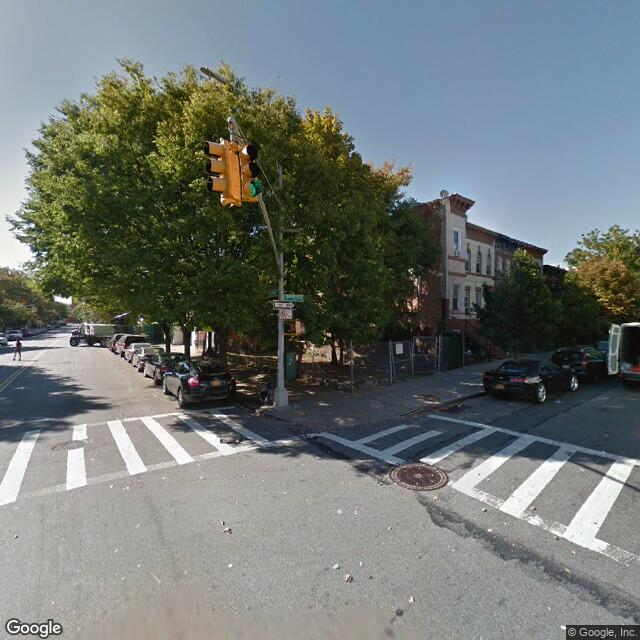litter: (331, 563, 359, 581), (258, 381, 275, 408), (216, 519, 237, 536)
